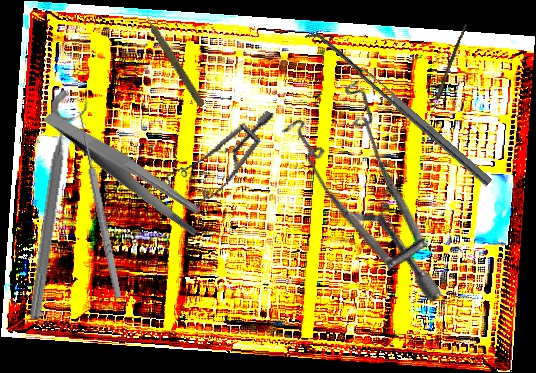Dressing Forceps: (42, 78, 211, 264)
Fixation Ring: (22, 88, 92, 324)
Handpiece: (139, 8, 209, 109)
Hook Surgical: (67, 110, 125, 300)
Spatula Surgical: (302, 25, 493, 194)
Speculum: (245, 60, 516, 306), (154, 85, 275, 227)
Surgical Spoon: (425, 23, 468, 126)
